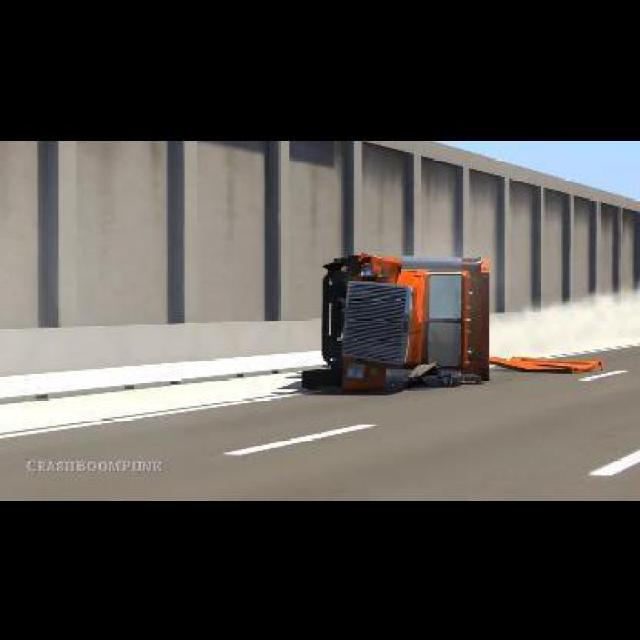accident: (298, 247, 498, 398)
